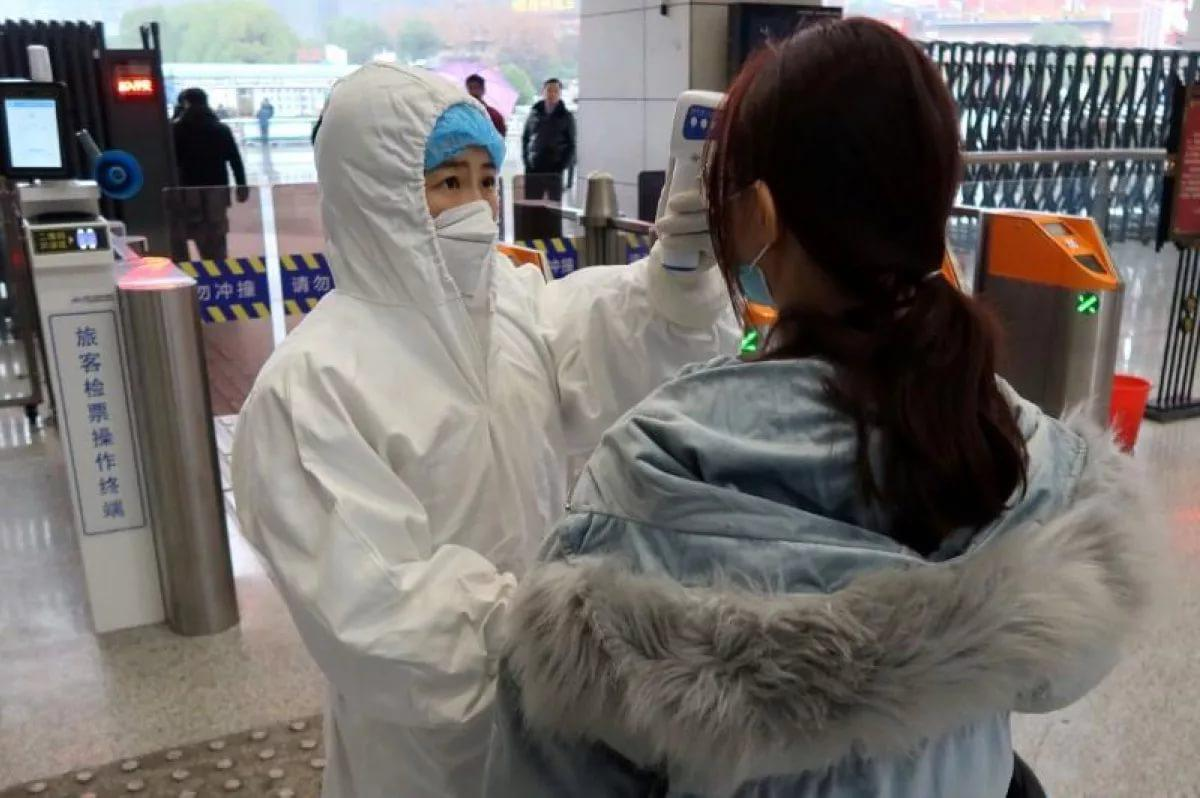mask: (417, 120, 508, 299)
none: (540, 80, 565, 108)
